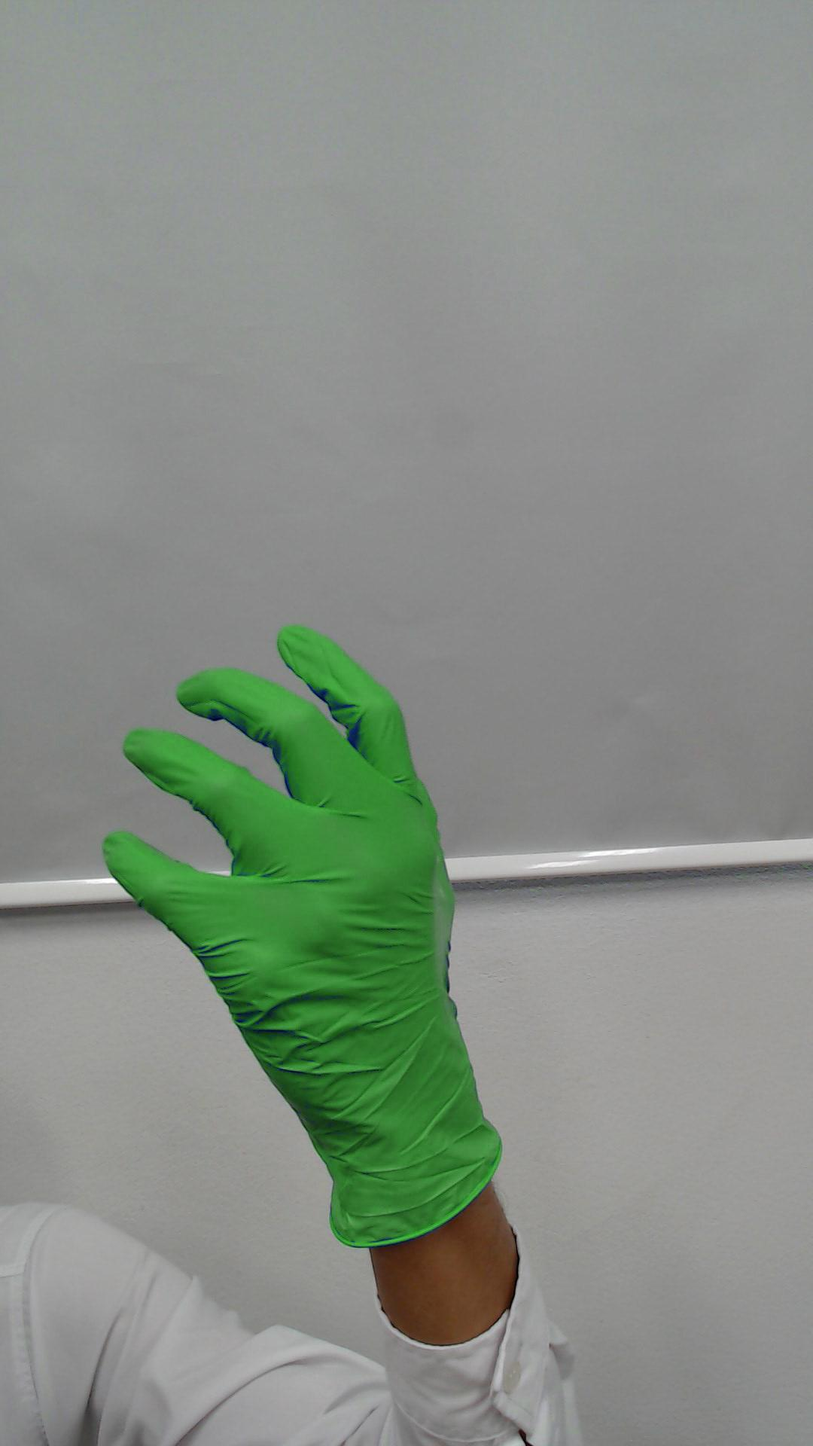gloves: (88, 610, 475, 1103)
